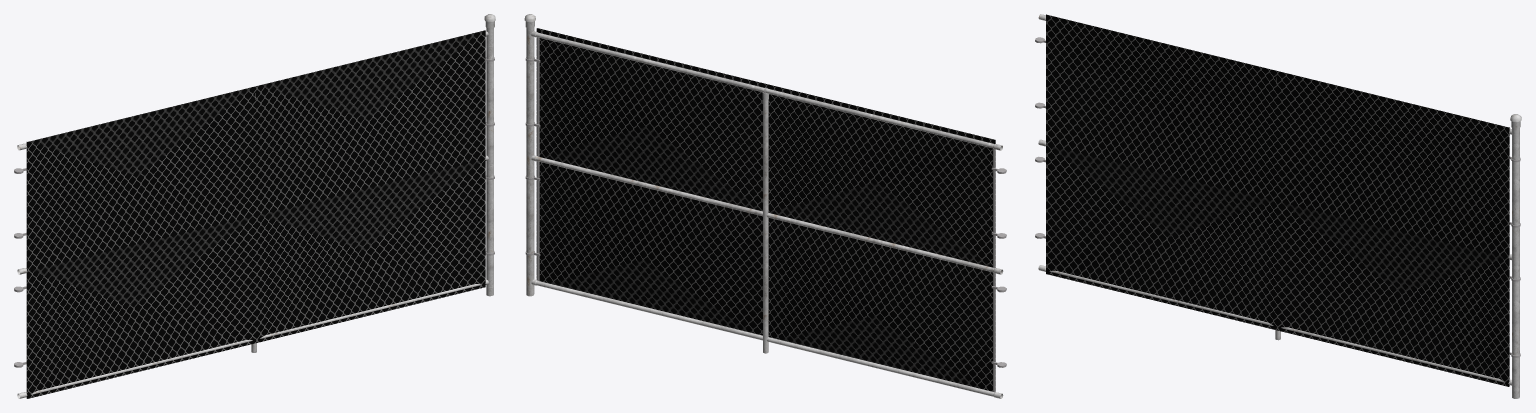
Rendered from ChainlinkFence_Tall_A.fbx.
3 views of the same model, side by side, from view 1: azimuth 30°, elevation 25°; view 2: azimuth 150°, elevation 25°; view 3: azimuth 330°, elevation 25° (orthographic).
Parts seen in each view (by area): view 1: ChainlinkFence_Tall_A_LOD0; view 2: ChainlinkFence_Tall_A_LOD0; view 3: ChainlinkFence_Tall_A_LOD0.
Boxes of the visible parts, box(x1,y1,x2,y2) form: ChainlinkFence_Tall_A_LOD0: box(14, 14, 495, 398); ChainlinkFence_Tall_A_LOD0: box(524, 14, 1006, 398); ChainlinkFence_Tall_A_LOD0: box(1035, 14, 1521, 398).
Size of what is drawn, in the model's own units: 510 by 284 by 15.59.
